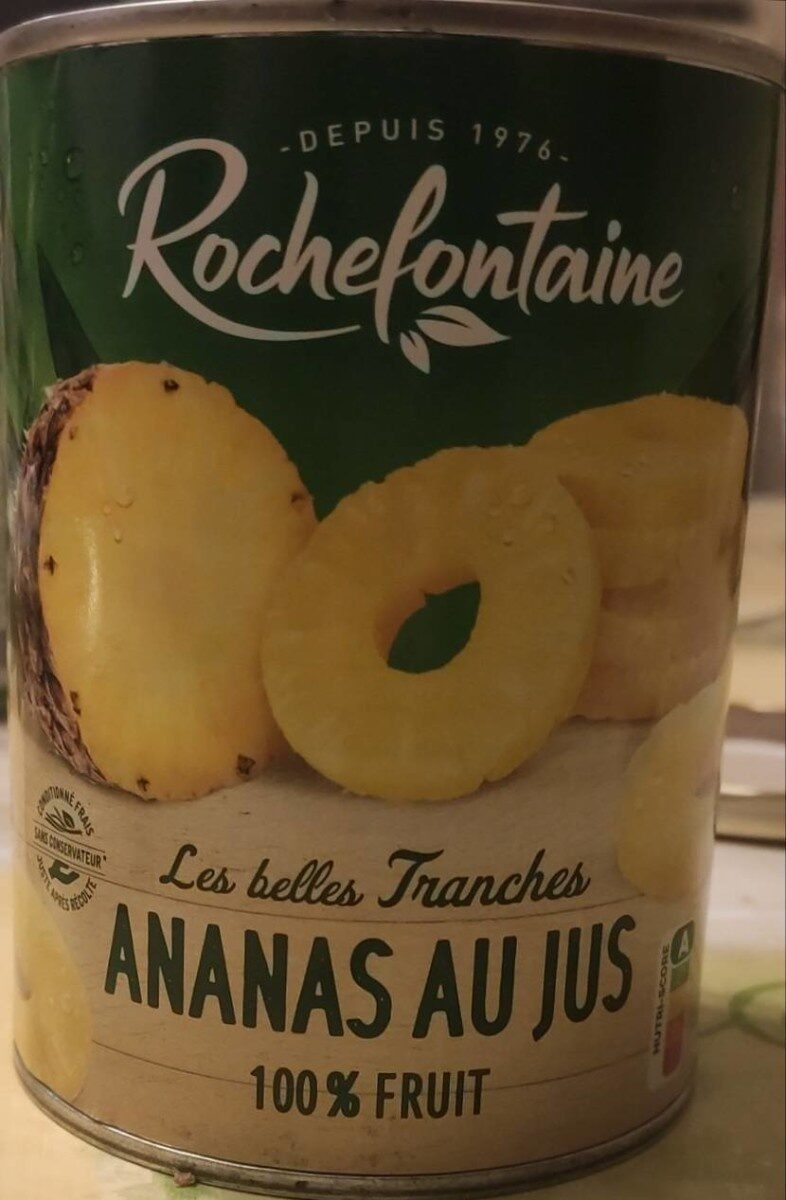Les belles tranches - Ananas au jus: (39, 60, 747, 1140)
